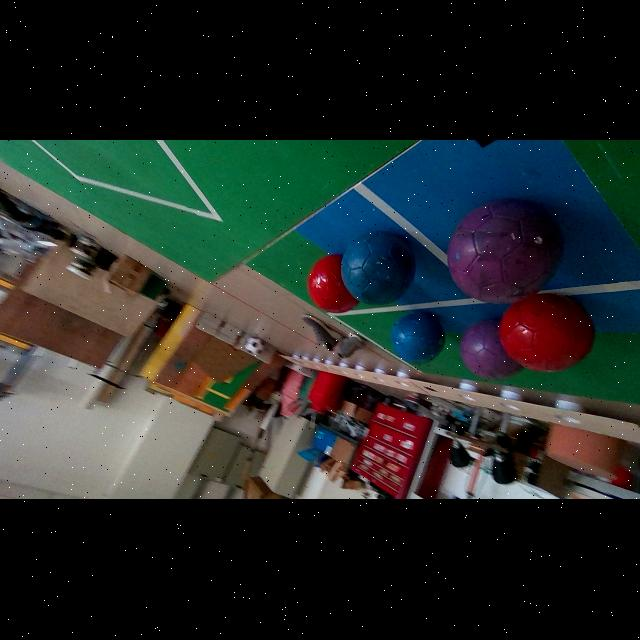B: (341, 232, 415, 305), (392, 313, 445, 365)
P: (447, 200, 563, 304), (460, 320, 523, 380)
R: (499, 295, 594, 373), (307, 255, 359, 313)
